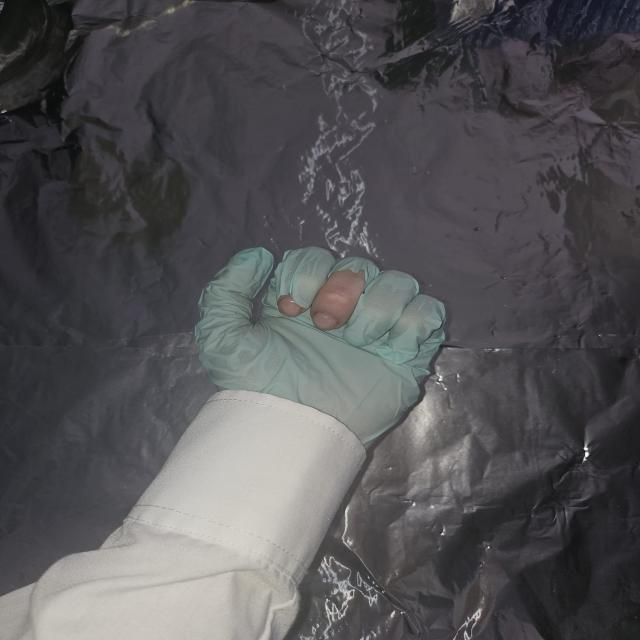gloves_damaged: (189, 245, 452, 457)
